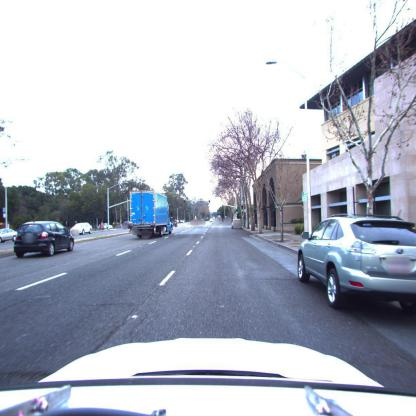car: (296, 215, 416, 313), (13, 221, 74, 259), (70, 222, 94, 236), (0, 229, 18, 243), (229, 216, 244, 230)
truck: (129, 192, 173, 237)
